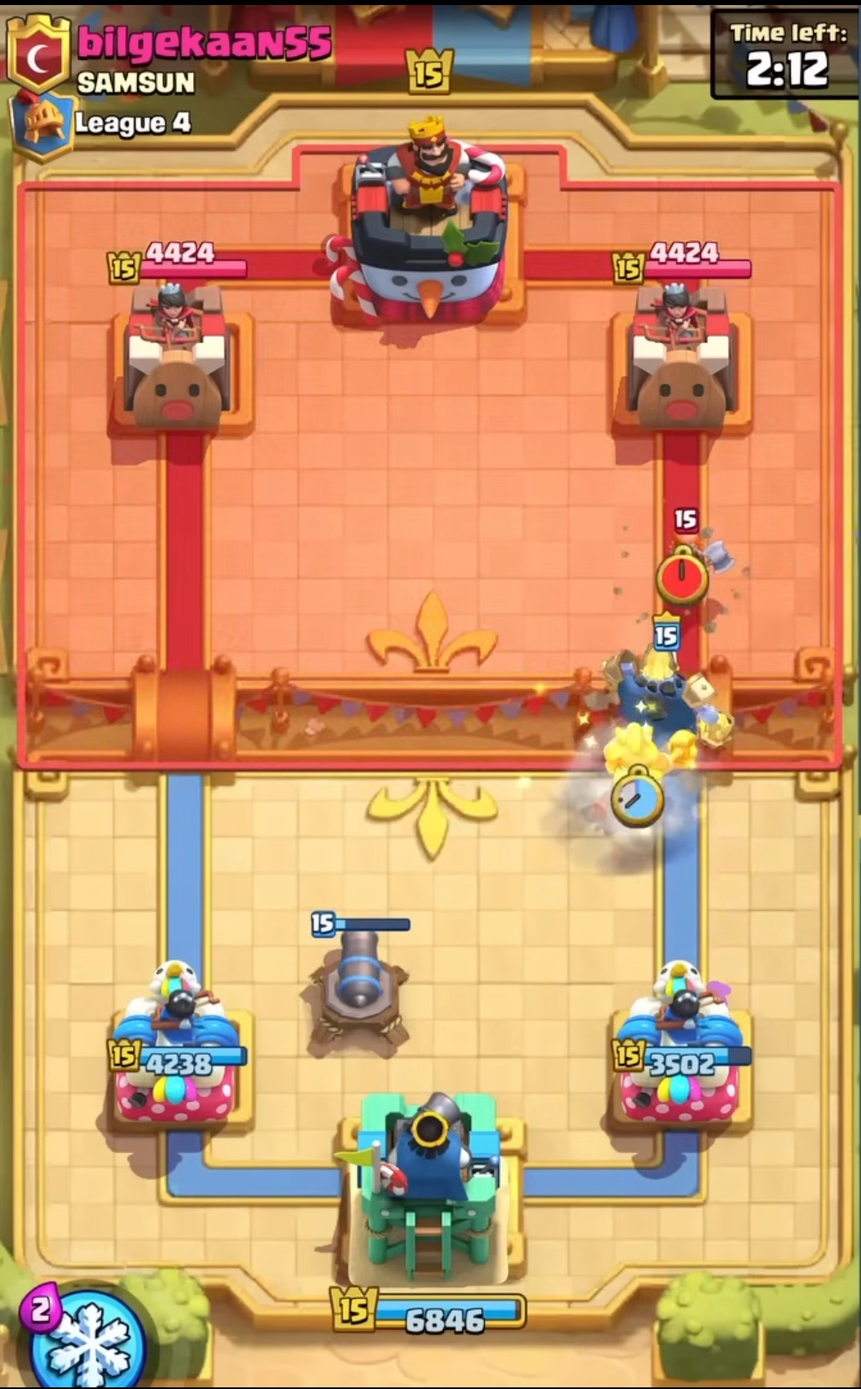cannon: (301, 903, 421, 1050)
hero_ice_golem: (595, 616, 743, 774)
hog_rider: (595, 715, 701, 844)
